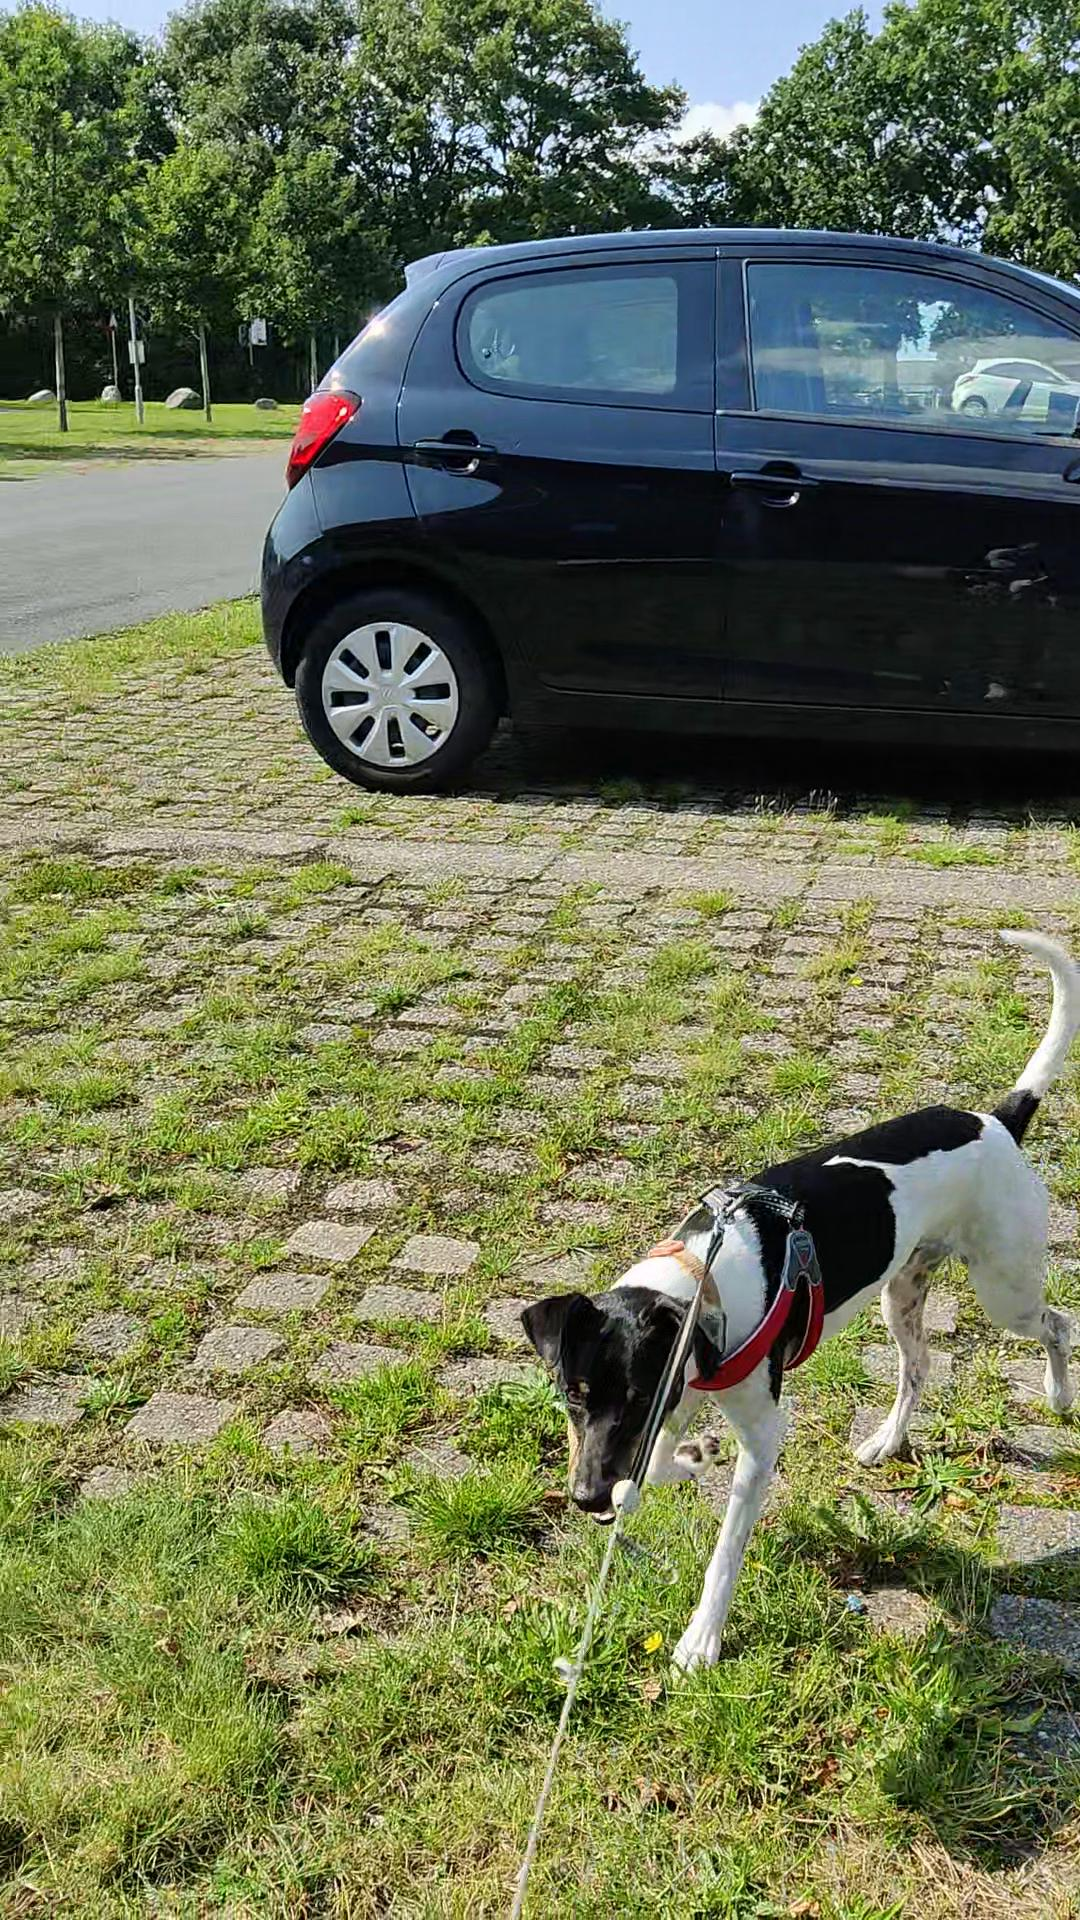Dog: (510, 918, 1079, 1688)
